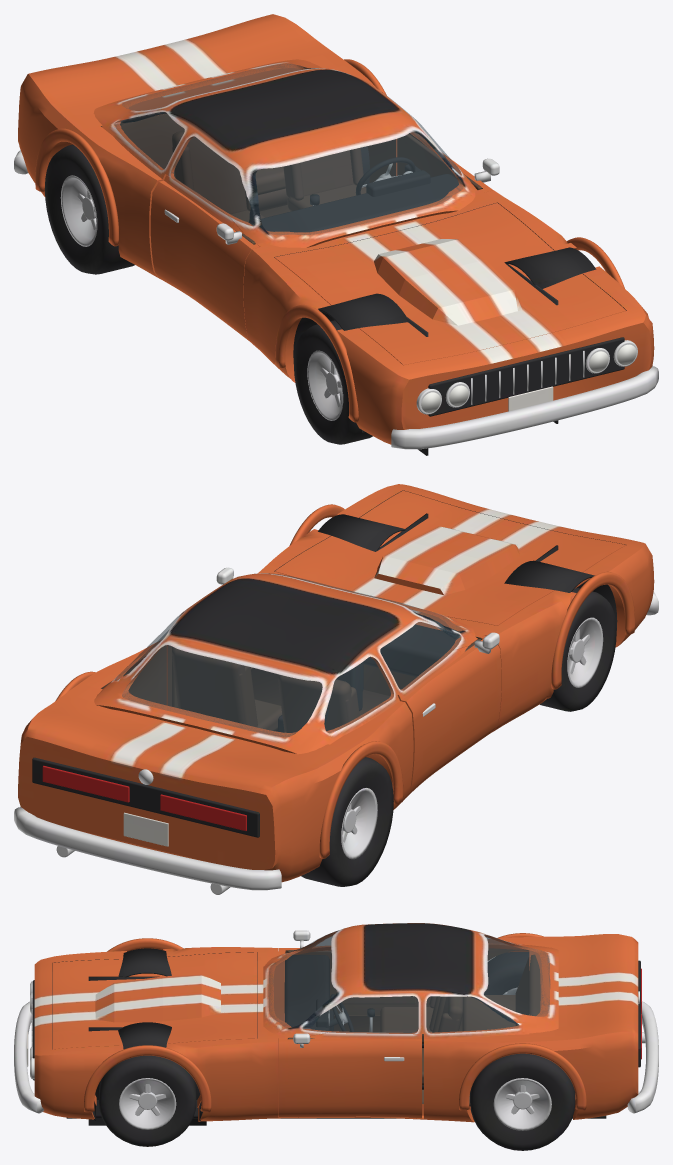
File: muscle-car.glb
3 renders of one model, top to bottom at view 1: azimuth 30°, elevation 25°; view 2: azimuth 150°, elevation 25°; view 3: azimuth 270°, elevation 25°, orthographic. The views are drawn at different scales.
Visible parts, largest first — view 1: body, cabin, hood, glass_windscreen, door_r, hood_scoop, bumper_front, grille, wheel_rr_tyre, dash, glass_door_r, wheel_fr_tyre (+17 smaller); view 2: body, cabin, hood, glass_rear, door_r, hood_scoop, bumper_rear, wheel_rr_tyre, seat_back_l, wheel_fr_tyre, tail_panel, glass_quarter_r (+17 smaller); view 3: body, cabin, door_l, hood, wheel_rl_tyre, hood_scoop, wheel_fl_tyre, glass_windscreen, glass_rear, glass_door_l, dash, glass_quarter_l (+18 smaller).
Part boxes in pixels (left/top/right/bottom): body: left=18, top=14, right=654, bottom=444; cabin: left=93, top=59, right=477, bottom=247; hood: left=274, top=203, right=625, bottom=365; glass_windscreen: left=255, top=132, right=462, bottom=234; door_r: left=150, top=175, right=260, bottom=342; hood_scoop: left=374, top=239, right=521, bottom=325; bumper_front: left=391, top=366, right=658, bottom=449; grille: left=428, top=337, right=624, bottom=416; wheel_rr_tyre: left=44, top=144, right=134, bottom=274; dash: left=248, top=174, right=458, bottom=232; glass_door_r: left=171, top=136, right=254, bottom=225; wheel_fr_tyre: left=294, top=320, right=372, bottom=444; body: left=18, top=484, right=654, bottom=882; cabin: left=94, top=573, right=477, bottom=754; hood: left=274, top=490, right=625, bottom=625; glass_rear: left=122, top=645, right=322, bottom=737; door_r: left=397, top=635, right=501, bottom=797; hood_scoop: left=374, top=526, right=519, bottom=595; bumper_rear: left=14, top=807, right=281, bottom=890; wheel_rr_tyre: left=301, top=757, right=393, bottom=886; seat_back_l: left=172, top=647, right=251, bottom=725; wheel_fr_tyre: left=540, top=587, right=616, bottom=711; tail_panel: left=32, top=757, right=259, bottom=837; glass_quarter_r: left=324, top=657, right=393, bottom=732; body: left=34, top=934, right=638, bottom=1122; cabin: left=263, top=923, right=558, bottom=1043; door_l: left=279, top=1032, right=421, bottom=1118; hood: left=53, top=952, right=257, bottom=1049; wheel_rl_tyre: left=470, top=1053, right=575, bottom=1150; hood_scoop: left=95, top=974, right=220, bottom=1022; wheel_fl_tyre: left=99, top=1055, right=196, bottom=1146; glass_windscreen: left=268, top=932, right=336, bottom=1027; glass_rear: left=484, top=934, right=550, bottom=1016; glass_door_l: left=302, top=996, right=418, bottom=1033; dash: left=284, top=955, right=329, bottom=1030; glass_quarter_l: left=426, top=996, right=519, bottom=1033.
Size of the model in its own units: 2.07 by 1.27 by 5.02.
Materials: 4 (1 with a texture image).
